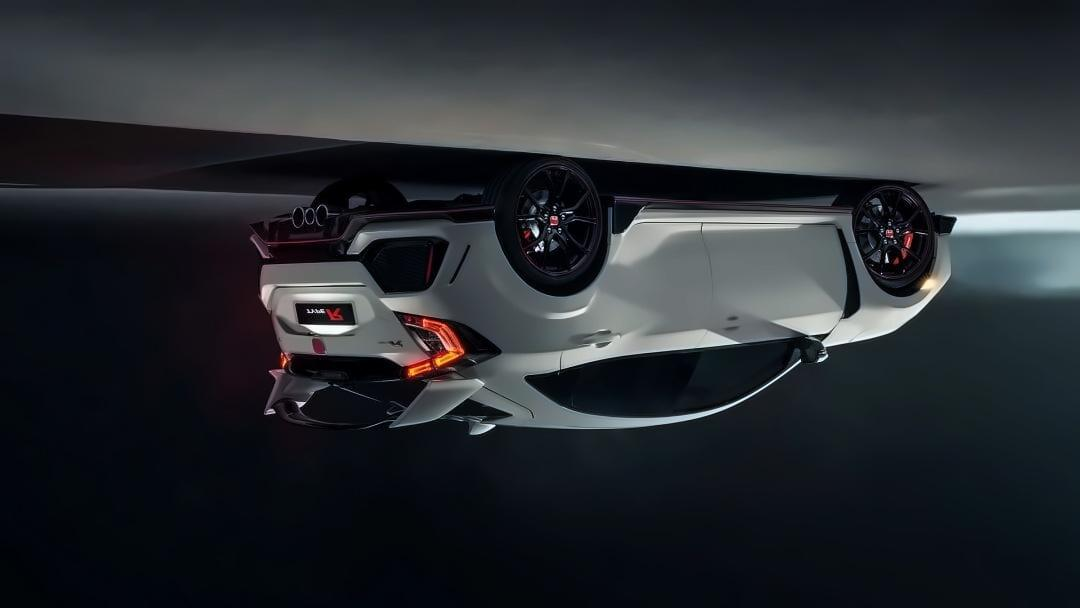Car boot: (256, 255, 428, 371)
Fender - -F-L-: (846, 215, 926, 349)
Fender - -R-L-: (479, 196, 616, 358)
Front bumper: (928, 209, 966, 289)
Passenger-s door - -F-L-: (710, 215, 847, 415)
Passenger-s door - -R-L-: (556, 220, 711, 425)
Rear bumper: (243, 201, 527, 287)
Rear light - -L-: (387, 306, 506, 384)
Rear light - -R-: (265, 339, 298, 379)
Side bumper - -L-: (600, 189, 859, 237)
Side mirror - -L-: (795, 333, 833, 369)
